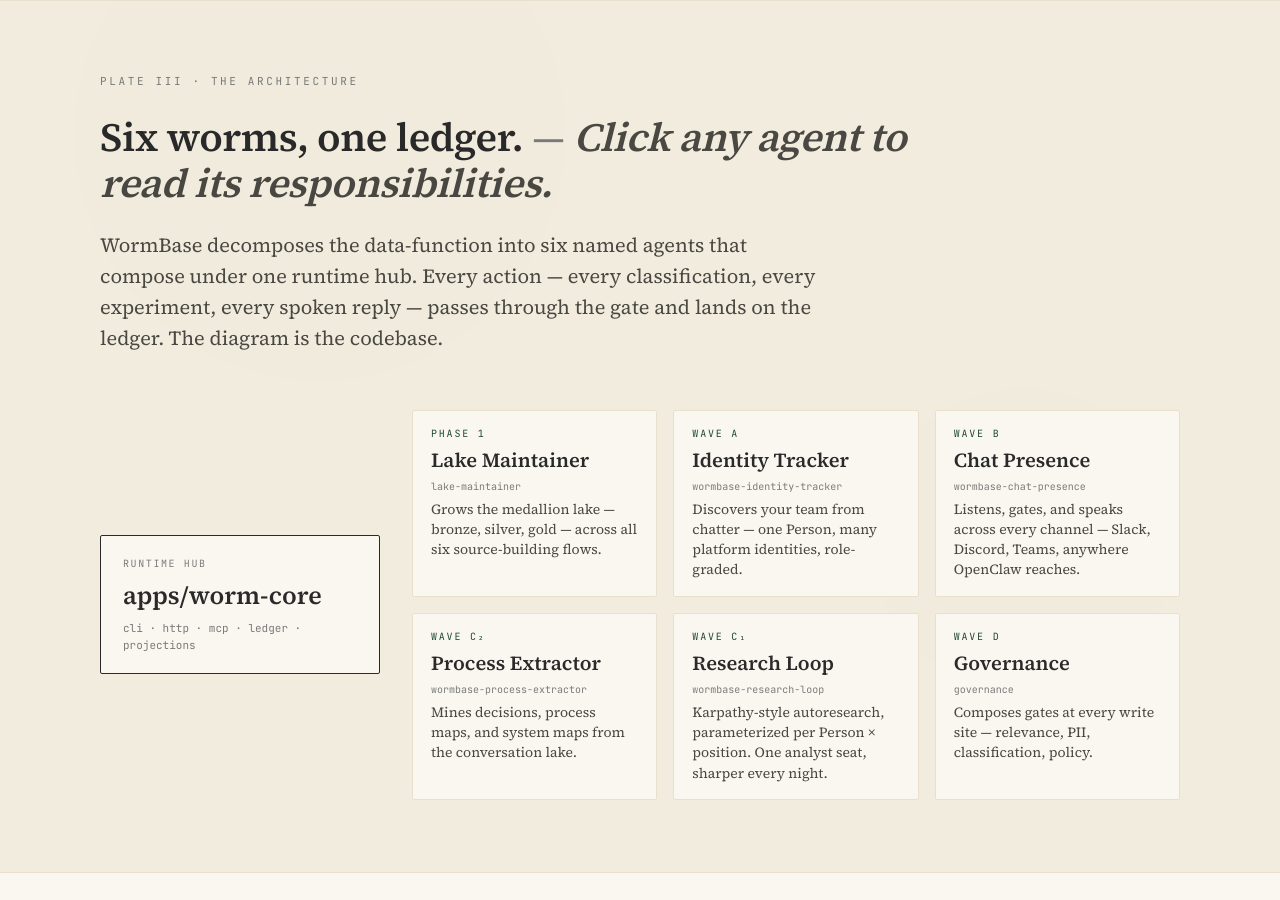
Test: ArchitectureDiagram (clickable 6-agent pitch) › opens a modal with the agent's responsibilities + reactivities on click
This screenshot has width=1280, height=900.
Click the button with test id "agent-node-lake". click: [535, 503]
box: top-left (412, 410), bottom-right (657, 597)
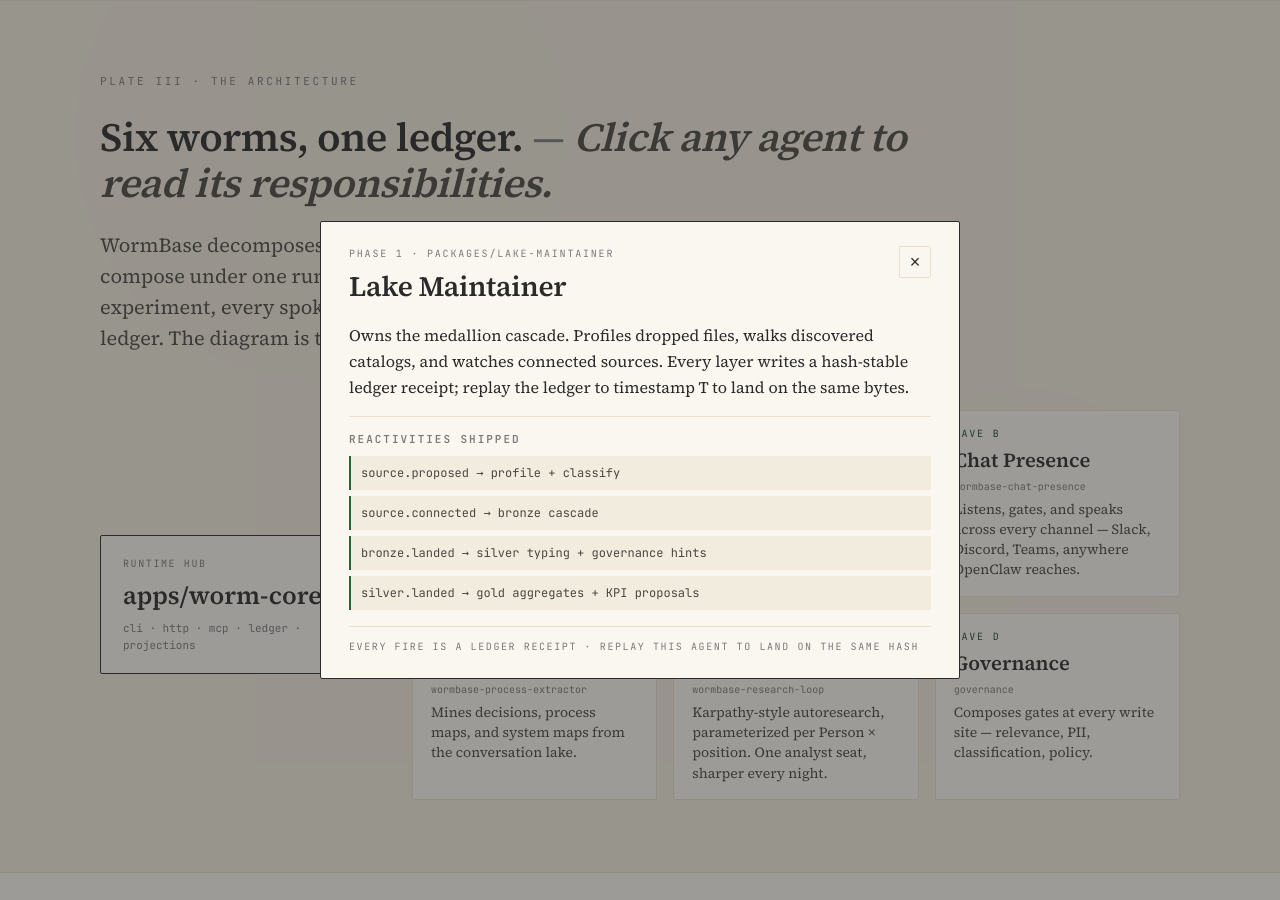
Now the dialog with test id "agent-modal" is shown
Now the heading "Lake Maintainer" is shown, box top-left (349, 267), bottom-right (566, 305)
Now the list with test id "agent-modal-reactivities" is shown, box top-left (349, 456), bottom-right (931, 610)
